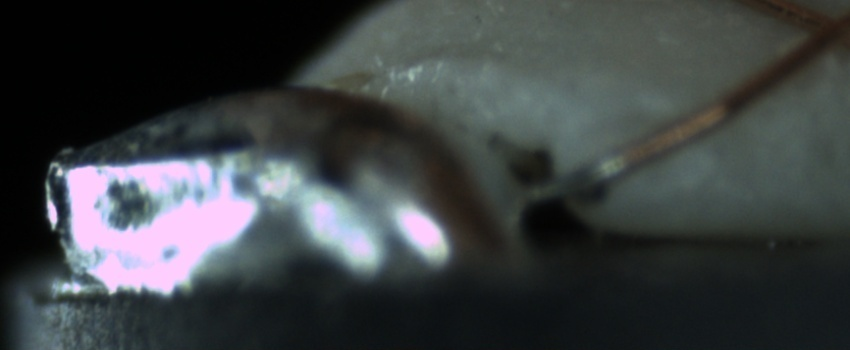CL: (781, 0, 849, 63)
TS: (518, 151, 627, 209)
TTCW: (520, 130, 665, 214)
